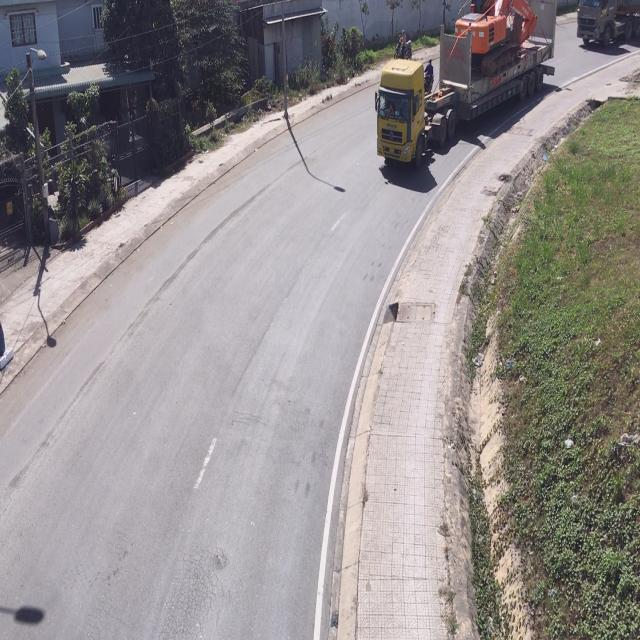motorbike: (394, 31, 414, 58), (423, 56, 435, 93)
truck: (375, 2, 558, 174), (575, 0, 637, 50)
